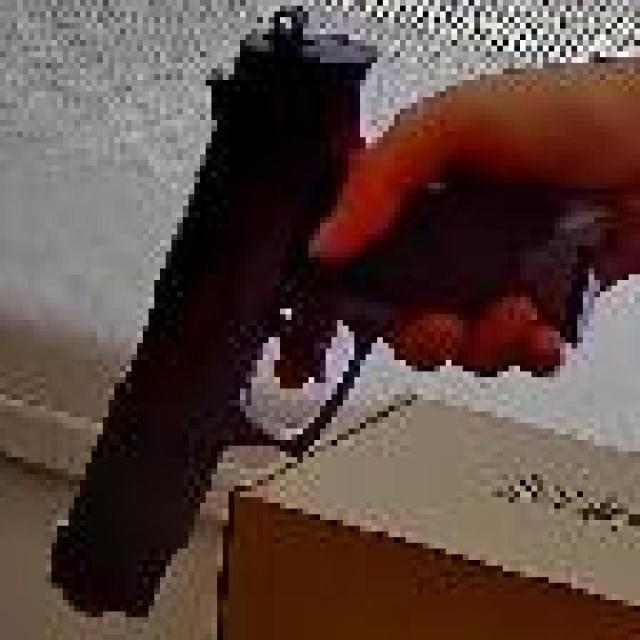pistol: (41, 0, 635, 625)
